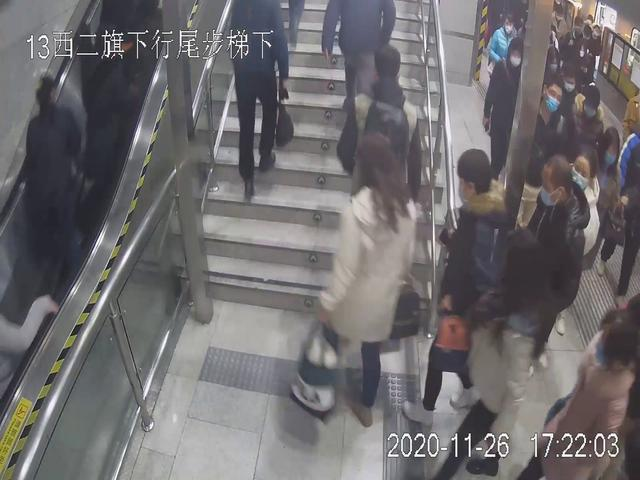person: (308, 133, 416, 434), (406, 149, 496, 434), (223, 1, 302, 193), (525, 152, 588, 373), (483, 34, 529, 184)
